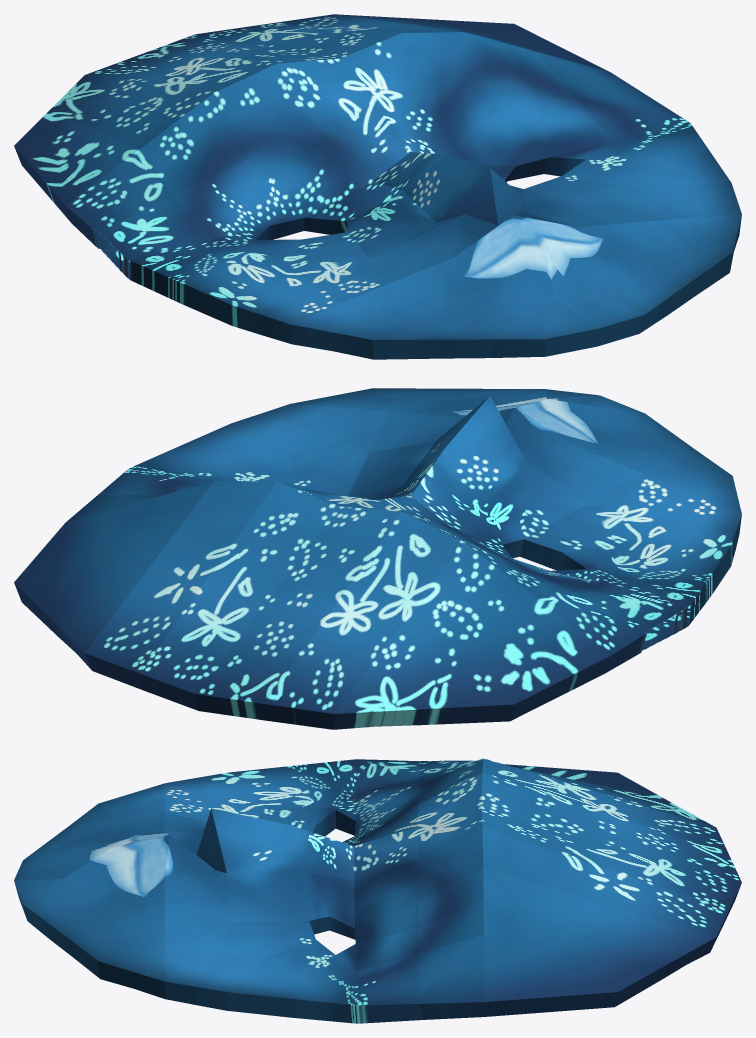
Rendered from bluemask.fbx.
The picture shows the model from 3 angles, top to bottom: view 1: azimuth 30°, elevation 25°; view 2: azimuth 150°, elevation 25°; view 3: azimuth 270°, elevation 25°; orthographic projection. The views are drawn at different scales.
Visible parts, largest first — view 1: Plane; view 2: Plane; view 3: Plane.
Boxes of the visible parts, box(x1,y1,x2,y2) form: Plane: box(14, 14, 741, 359); Plane: box(14, 388, 741, 729); Plane: box(14, 758, 741, 1023).
Bounding box in the file's own units: 224 × 42.98 × 280.
Materials: 1 (1 with a texture image).
